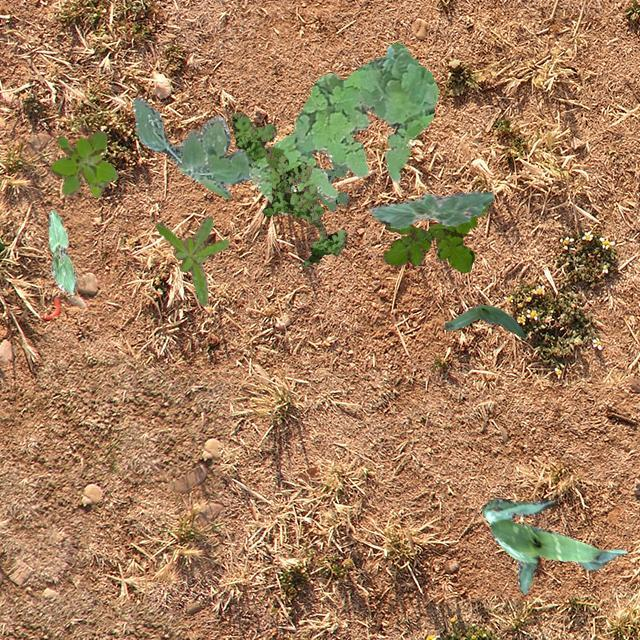crop: (480, 496, 626, 594), (368, 190, 494, 228), (444, 304, 526, 338), (46, 208, 76, 294)
weed: (248, 40, 437, 202), (230, 112, 346, 266), (132, 96, 252, 198), (382, 205, 486, 272), (154, 214, 228, 306), (49, 130, 118, 196), (314, 158, 348, 210)
